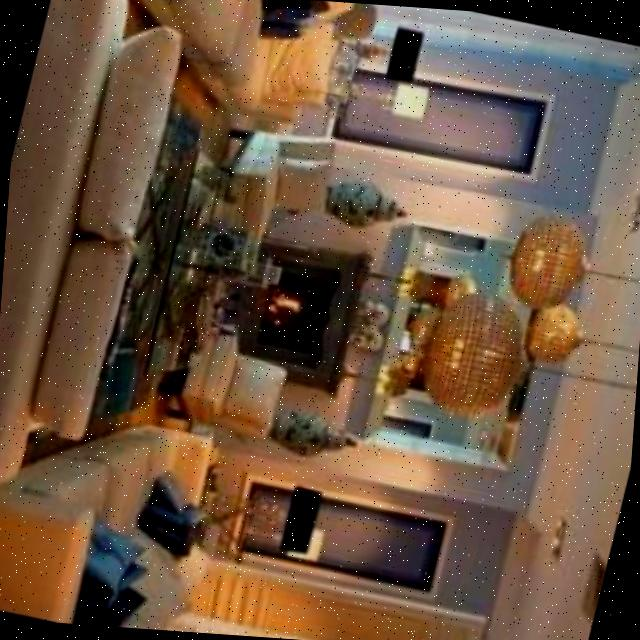fire: (259, 282, 316, 330)
